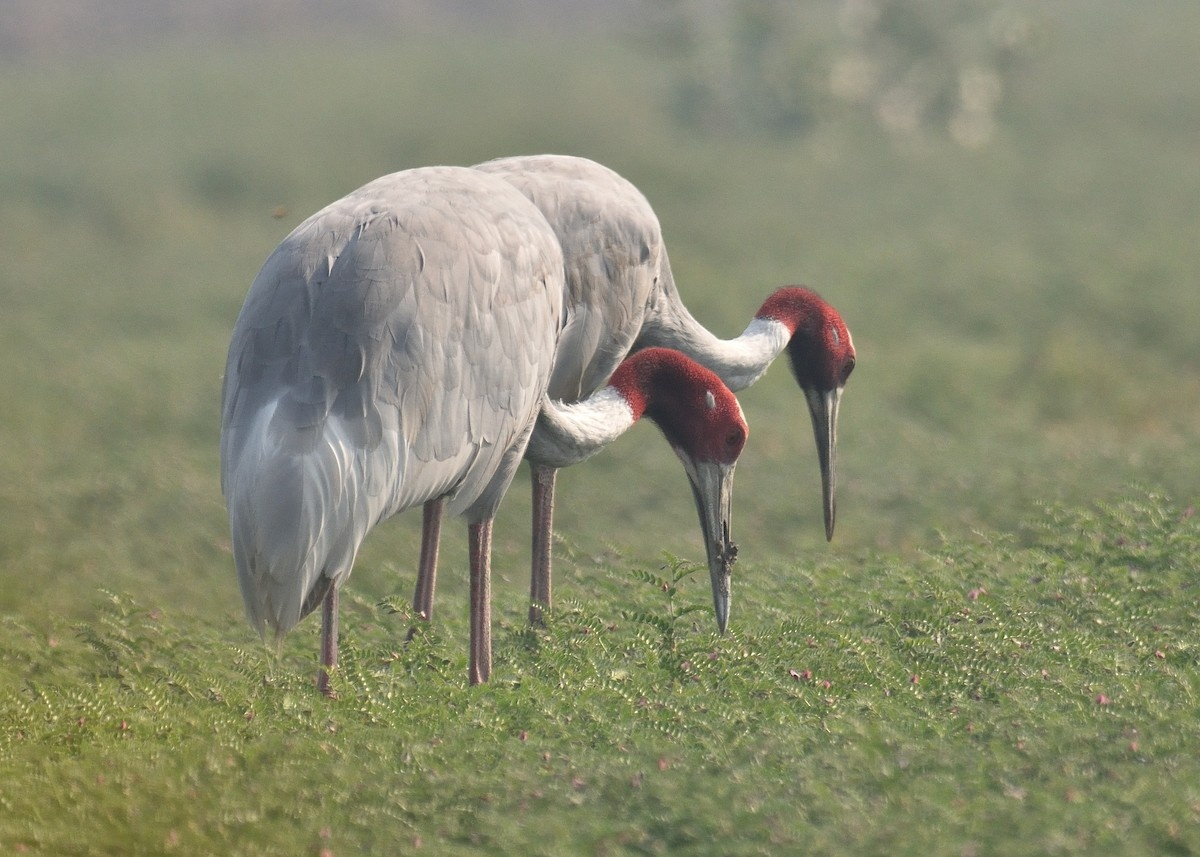crane: (213, 159, 758, 702), (572, 150, 895, 557)
